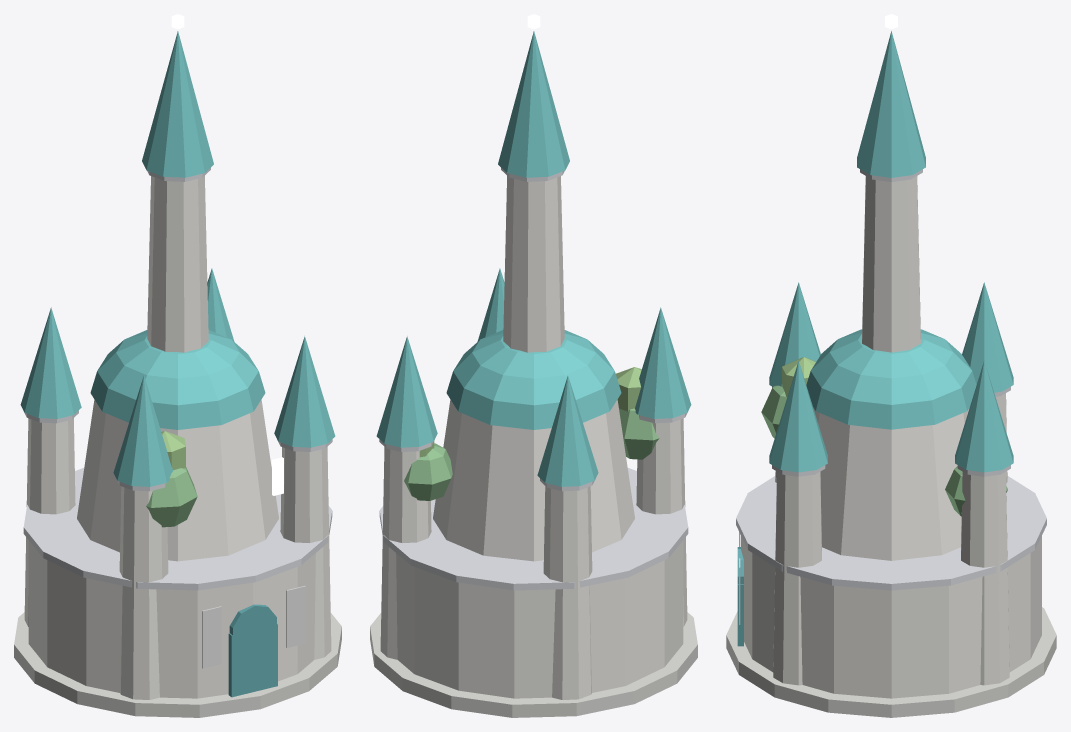
3 views of the same model, side by side, from view 1: azimuth 30°, elevation 25°; view 2: azimuth 150°, elevation 25°; view 3: azimuth 270°, elevation 25° (orthographic).
Visible parts, largest first — view 1: body; view 2: body; view 3: body.
Part boxes in pixels (x1,y1,x2,y2): body: (14, 14, 341, 717); body: (370, 14, 697, 717); body: (726, 14, 1056, 717).
Bounding box in the file's own units: 13.6 × 28.8 × 13.6.
